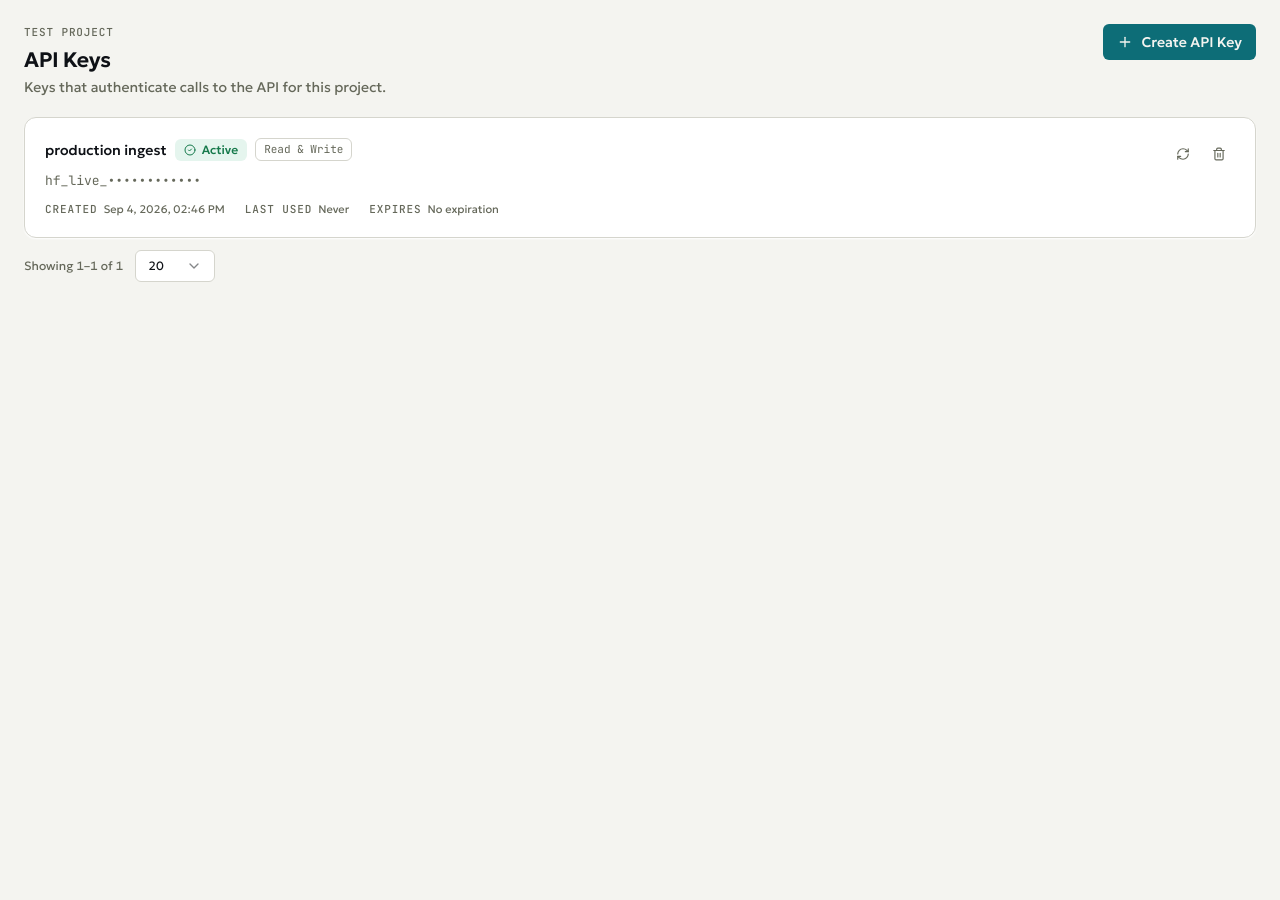
ApiKeysPage — rotation › rotates a key and shows the replacement exactly once
This screenshot has width=1280, height=900.
Check: the text "production ingest" is shown, box [45, 140, 167, 160]
Step 1. Click the button named "Rotate production ingest" → (1183, 154), box [1167, 138, 1199, 170]
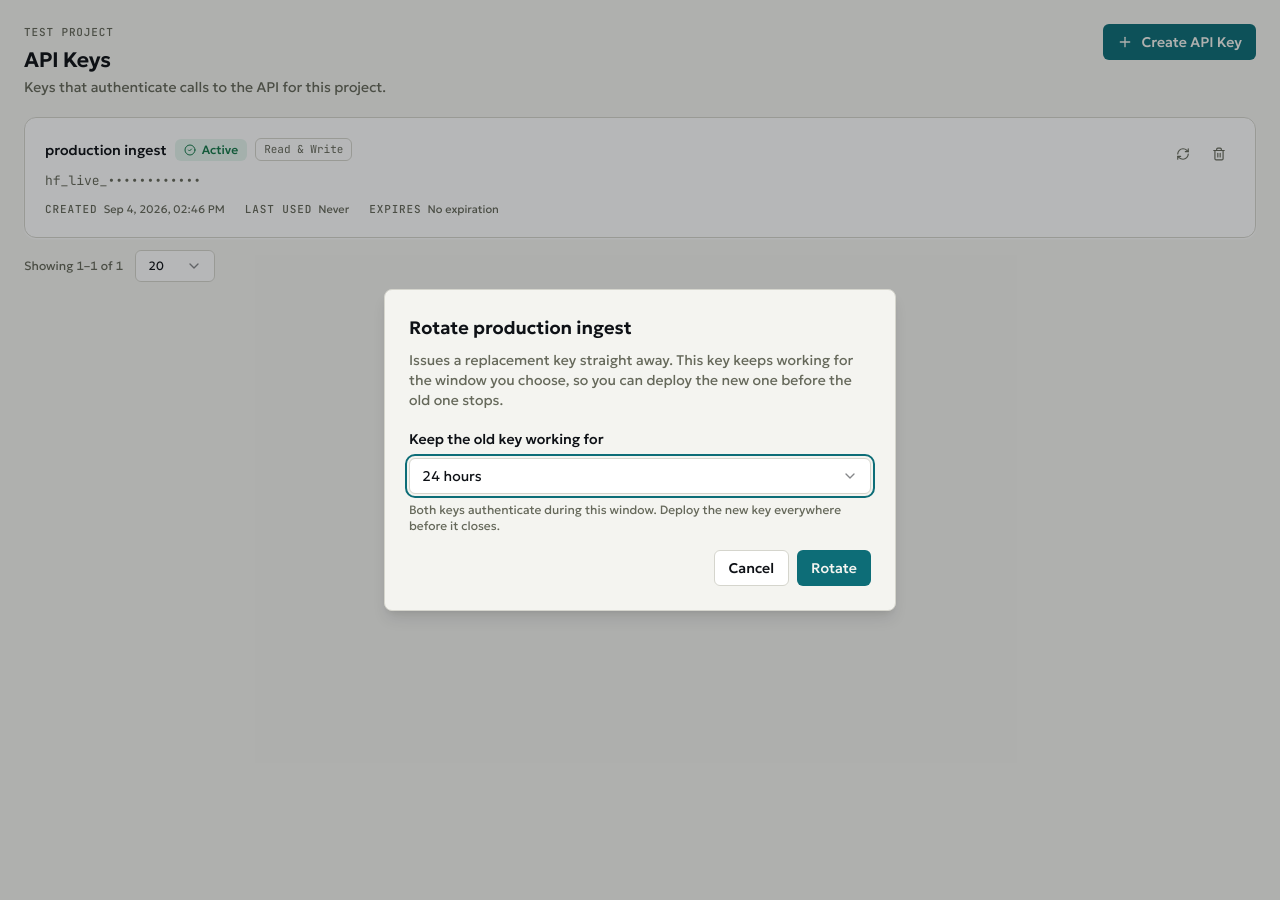
Step 2. Click the button "Rotate" → (834, 568), box [797, 550, 871, 586]
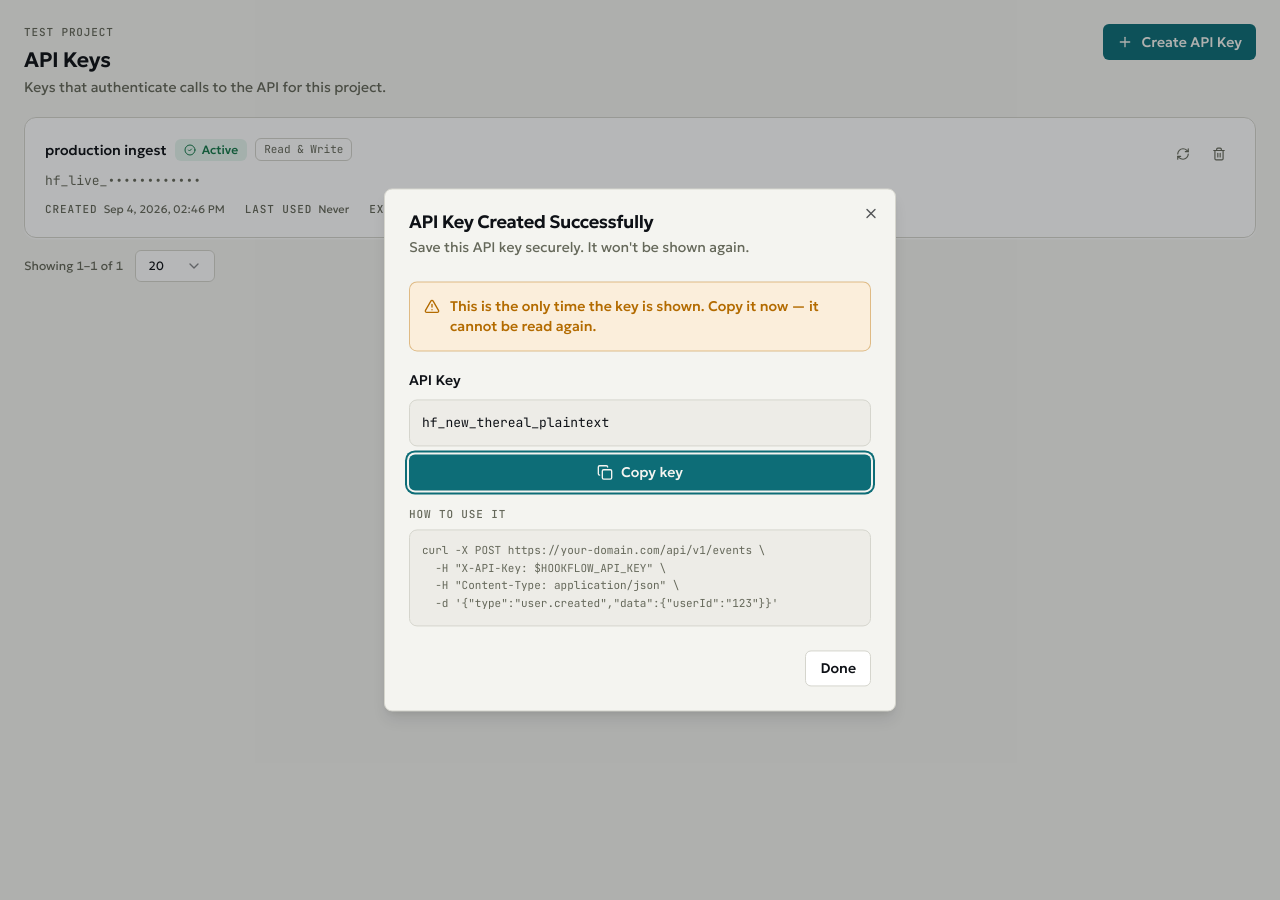
Check: the text "hf_new_thereal_plaintext" is shown, box [422, 414, 609, 431]
